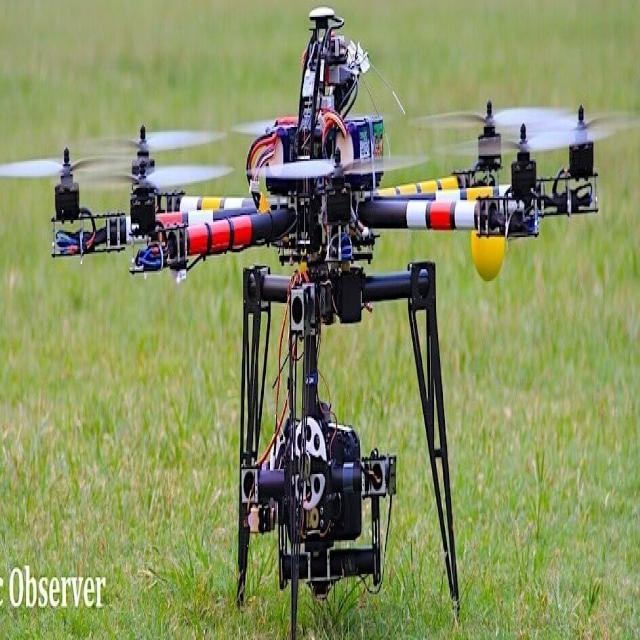drone: (7, 7, 636, 626)
